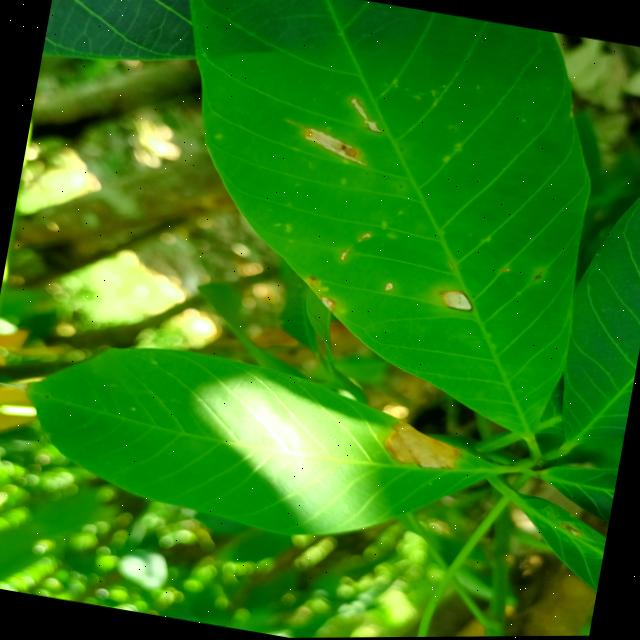Colletotrichum: (534, 275, 541, 280)
Leaf-Blight: (382, 416, 466, 476), (300, 125, 371, 167), (346, 98, 386, 134), (441, 290, 474, 311), (318, 296, 338, 313), (384, 282, 394, 292)
